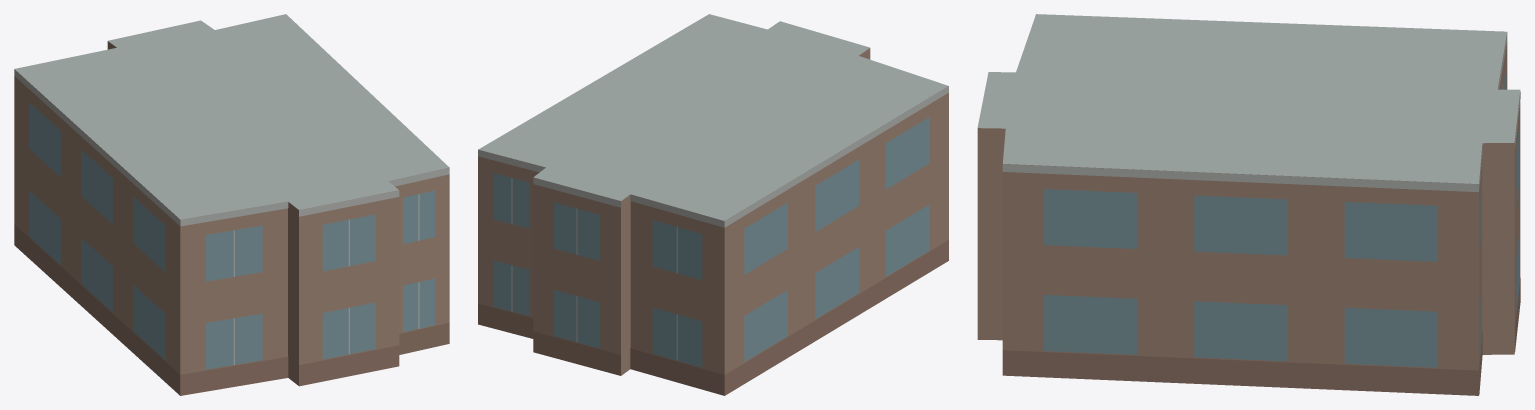
Rendered from survey-upis-32496588.glb.
3 renders of one model, left to right at view 1: azimuth 30°, elevation 25°; view 2: azimuth 150°, elevation 25°; view 3: azimuth 270°, elevation 25°, orthographic. The views are drawn at different scales.
Visible parts, largest first — view 1: survey-upis-32496588.tmp; view 2: survey-upis-32496588.tmp; view 3: survey-upis-32496588.tmp.
Part boxes in pixels (x1,y1,x2,y2): survey-upis-32496588.tmp: (14,14,449,395); survey-upis-32496588.tmp: (478,14,948,395); survey-upis-32496588.tmp: (977,14,1520,395).
Bounding box in the file's own units: 11.04 × 6.4 × 14.89.
